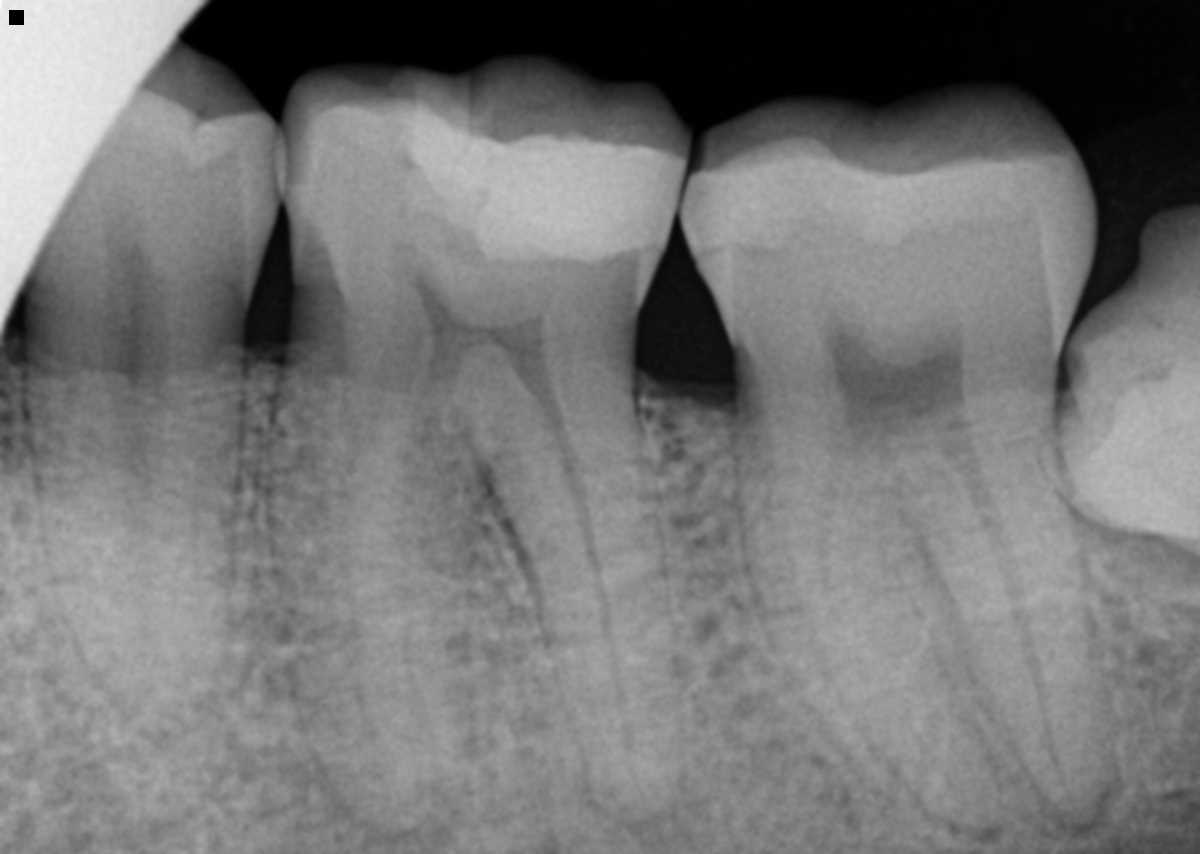Apical Lesion: (347, 787, 477, 854), (634, 789, 718, 854), (1050, 789, 1133, 853)
Distal Canal: (898, 397, 1075, 813), (509, 365, 639, 758)
Distal Root: (891, 365, 1118, 825), (486, 351, 681, 828)
Main Canal: (100, 336, 169, 666)
Main Root: (24, 319, 246, 719)
Mesial Root: (742, 394, 1020, 835), (271, 326, 490, 830)
